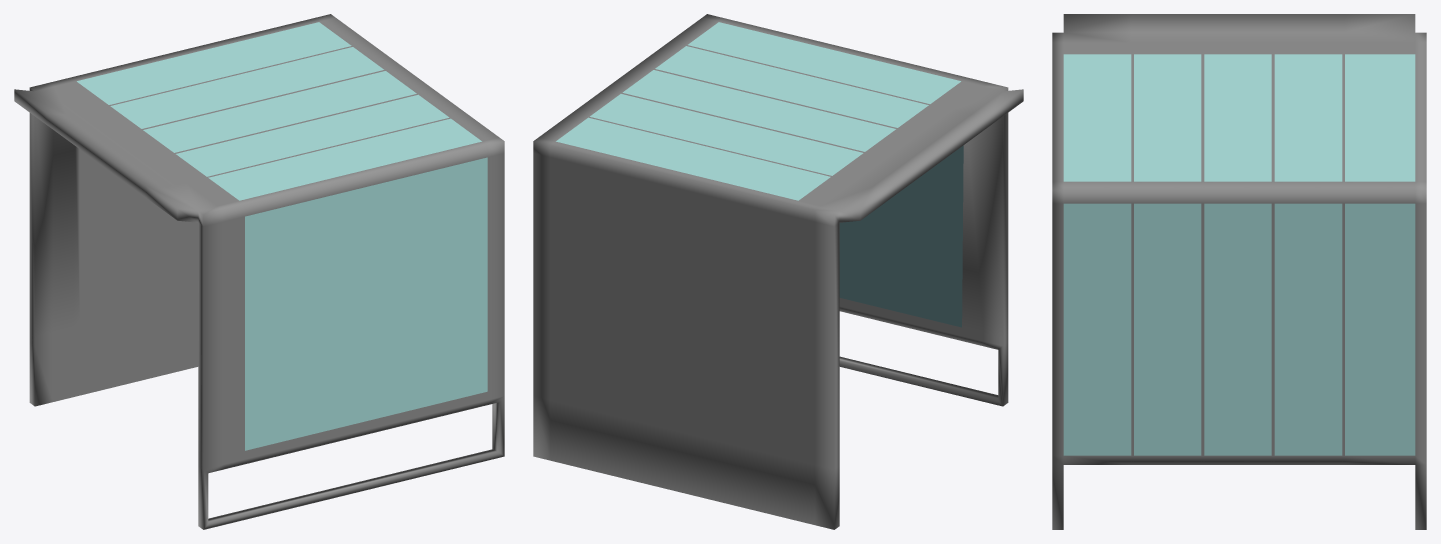
File: durak.fbx
The picture shows the model from 3 angles, left to right: view 1: azimuth 30°, elevation 25°; view 2: azimuth 150°, elevation 25°; view 3: azimuth 270°, elevation 25°; orthographic projection. The views are drawn at different scales.
Visible parts, largest first — view 1: Cube.003; view 2: Cube.003; view 3: Cube.003.
Boxes of the visible parts, x1,y1,x2,y2 form: Cube.003: (14, 14, 504, 529); Cube.003: (533, 14, 1023, 529); Cube.003: (1052, 14, 1426, 529).
Bounding box in the file's own units: 214 × 205 × 200.
